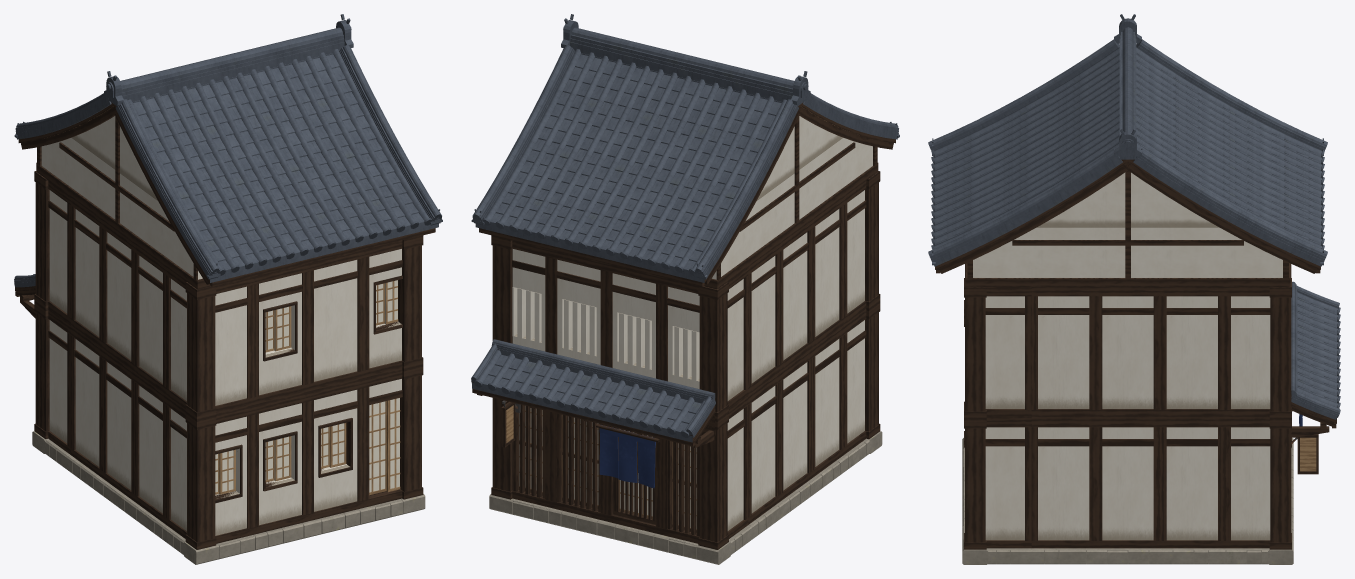
The model's file is HO_Bldg_Machiya_B.fbx.
3 renders of one model, left to right at view 1: azimuth 30°, elevation 25°; view 2: azimuth 150°, elevation 25°; view 3: azimuth 270°, elevation 25°, orthographic.
Parts seen in each view (by area): view 1: HO_Bldg_Machiya_B_Structure, HO_Bldg_Machiya_B_RoofTiles, HO_Bldg_Machiya_B_RoofFrame, HO_Bldg_Machiya_B_Door3, HO_Bldg_Machiya_B_Door2, HO_Bldg_Machiya_B_Front; view 2: HO_Bldg_Machiya_B_Structure, HO_Bldg_Machiya_B_RoofTiles, HO_Bldg_Machiya_B_Front, HO_Bldg_Machiya_B_RoofFrame, HO_Bldg_Machiya_B_Door1; view 3: HO_Bldg_Machiya_B_Structure, HO_Bldg_Machiya_B_RoofTiles, HO_Bldg_Machiya_B_RoofFrame, HO_Bldg_Machiya_B_Front, HO_Bldg_Machiya_B_SignFace.
Boxes of the visible parts, x1,y1,x2,y2 form: HO_Bldg_Machiya_B_Structure: (32, 171, 425, 564); HO_Bldg_Machiya_B_RoofTiles: (14, 14, 442, 282); HO_Bldg_Machiya_B_RoofFrame: (18, 102, 435, 289); HO_Bldg_Machiya_B_Door3: (369, 401, 386, 495); HO_Bldg_Machiya_B_Door2: (386, 398, 400, 492); HO_Bldg_Machiya_B_Front: (14, 274, 35, 318); HO_Bldg_Machiya_B_Structure: (489, 171, 882, 564); HO_Bldg_Machiya_B_RoofTiles: (471, 14, 899, 282); HO_Bldg_Machiya_B_Front: (471, 339, 715, 488); HO_Bldg_Machiya_B_RoofFrame: (479, 102, 895, 289); HO_Bldg_Machiya_B_Door1: (613, 427, 655, 524); HO_Bldg_Machiya_B_Structure: (962, 264, 1293, 564); HO_Bldg_Machiya_B_RoofTiles: (928, 14, 1327, 266); HO_Bldg_Machiya_B_RoofFrame: (935, 159, 1320, 286); HO_Bldg_Machiya_B_Front: (1291, 281, 1340, 474); HO_Bldg_Machiya_B_SignFace: (1300, 437, 1316, 471).
Size of the model in its own units: 17.54 by 29.96 by 25.67.
